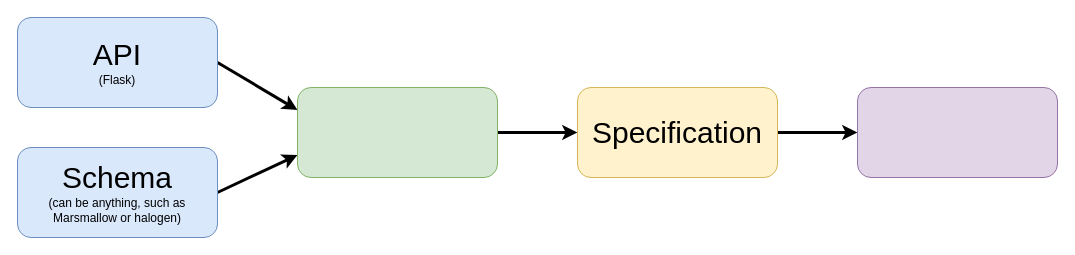
Image size: 1075x255. Some labels were removed from this diagram. Here are the shapes that lost their labels. From the top down, the centre of each, then its label:
point (397, 132): openapi-builder
point (957, 132): UI (either using Swagger or Redoc)
